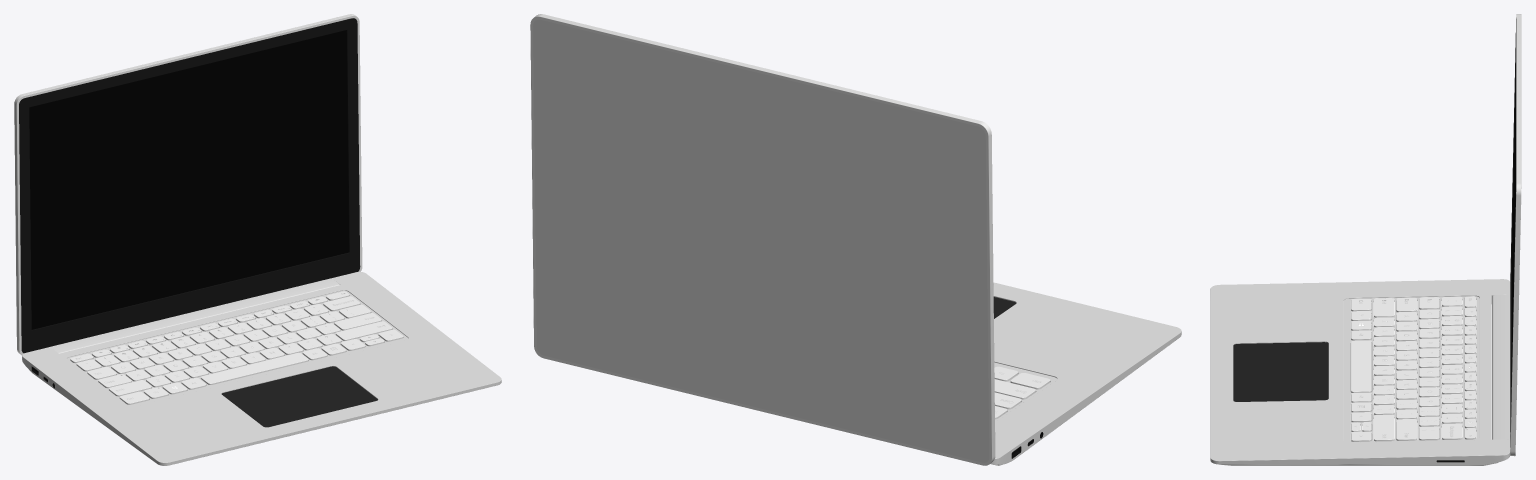
File: modern_slim_laptop.glb
3 views of the same model, side by side, from view 1: azimuth 30°, elevation 25°; view 2: azimuth 150°, elevation 25°; view 3: azimuth 270°, elevation 25° (orthographic). The views are drawn at different scales.
Visible parts, largest first — view 1: Screen, Modern_Slim_Laptop, Screen_Frame, Keyboard; view 2: Screen_Frame, Modern_Slim_Laptop, Keyboard; view 3: Modern_Slim_Laptop, Keyboard, Screen_Frame, Screen.
Boxes of the visible parts, x1,y1,x2,y2 form: Screen: [29, 30, 349, 329]; Modern_Slim_Laptop: [22, 271, 501, 465]; Screen_Frame: [14, 14, 362, 355]; Keyboard: [70, 291, 403, 404]; Screen_Frame: [530, 14, 995, 465]; Modern_Slim_Laptop: [990, 282, 1181, 465]; Keyboard: [994, 366, 1050, 419]; Modern_Slim_Laptop: [1210, 279, 1510, 465]; Keyboard: [1351, 296, 1475, 441]; Screen_Frame: [1510, 14, 1521, 456]; Screen: [1511, 77, 1515, 381].
Bounding box in the file's own units: 0.3395 × 0.2521 × 0.2532.
Materials: 8 (1 with a texture image).
